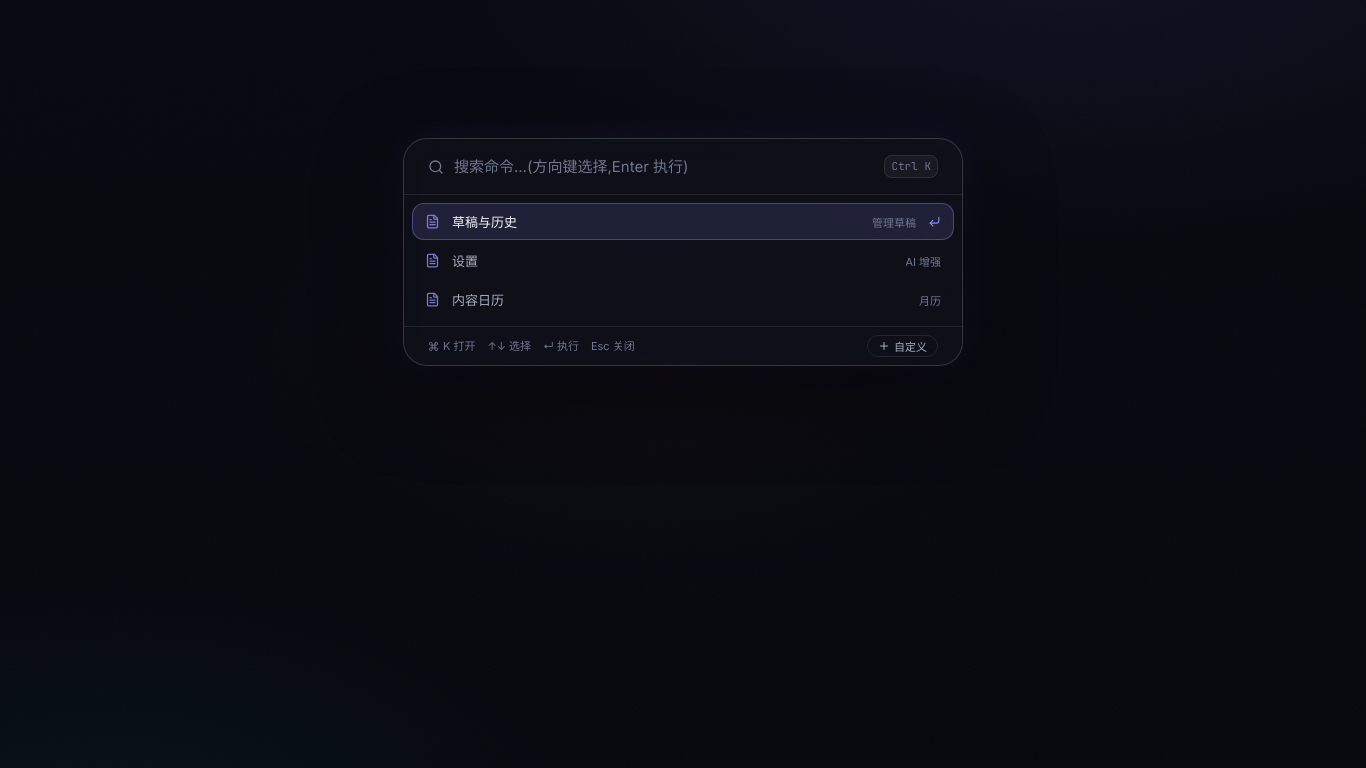
Test: CommandPalette · CMD-02 › 新增自定义命令表单保存
Click the button with aria-label "新增自定义命令" at [902, 346], box x1=867 y1=335 x2=938 y2=357
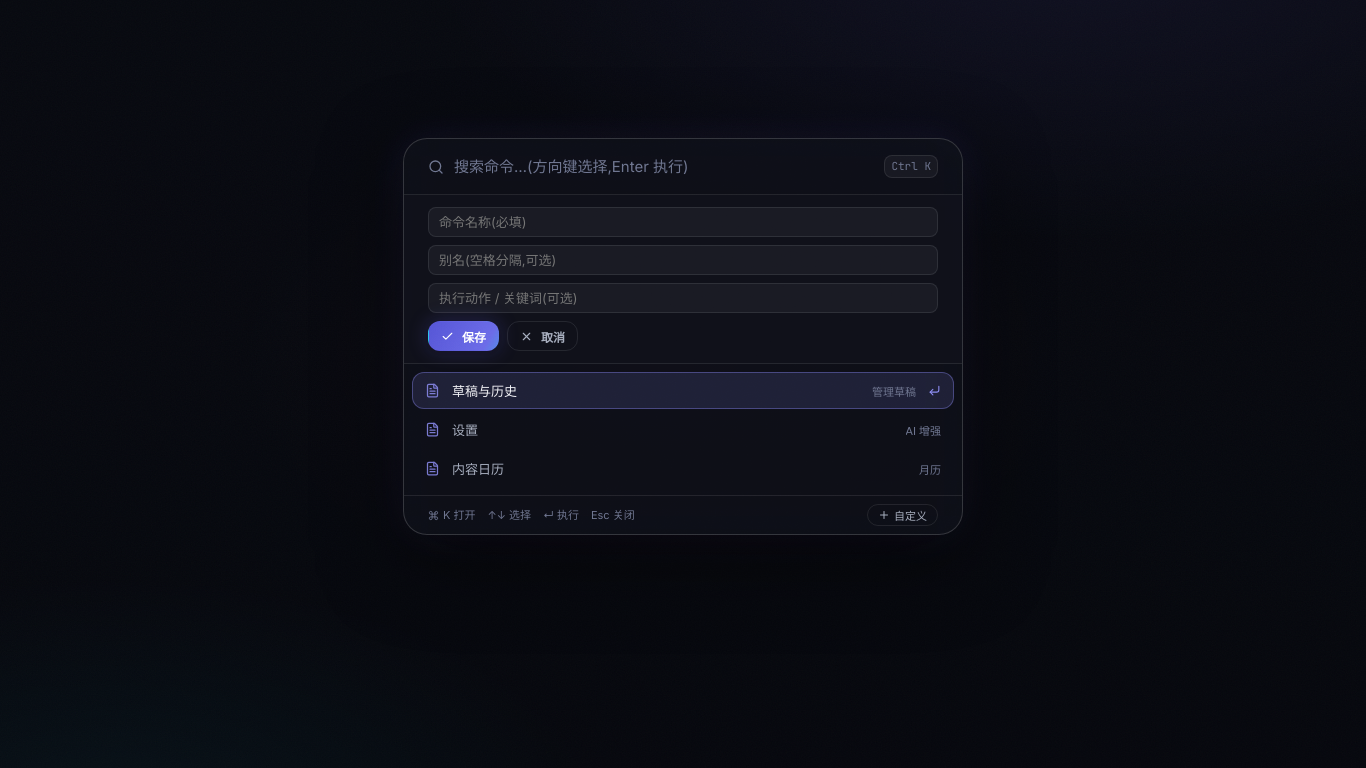
Type "我的命令" into the field labelled "命令名称" at [683, 222], box x1=428 y1=207 x2=938 y2=237
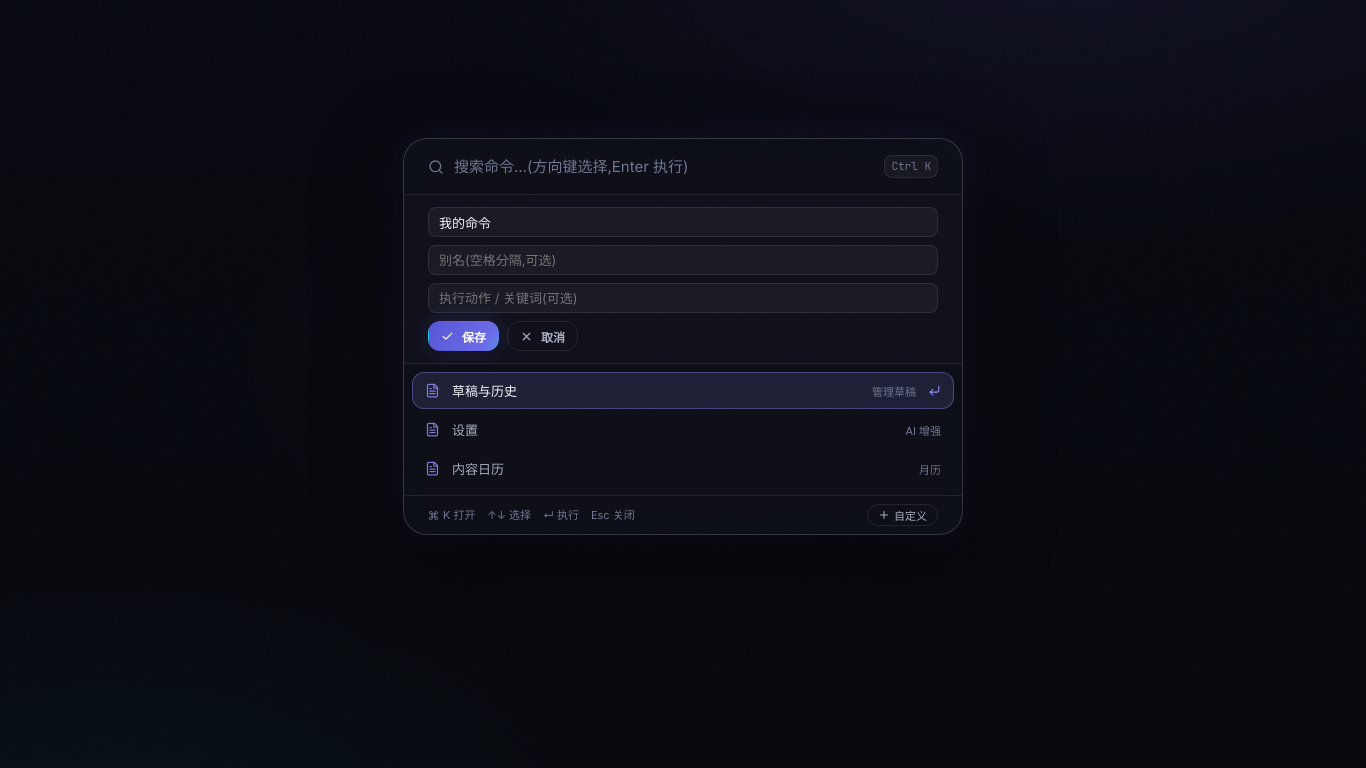
Type "mycmd 我的" into the field named "命令别名" at [683, 260], box x1=428 y1=245 x2=938 y2=275
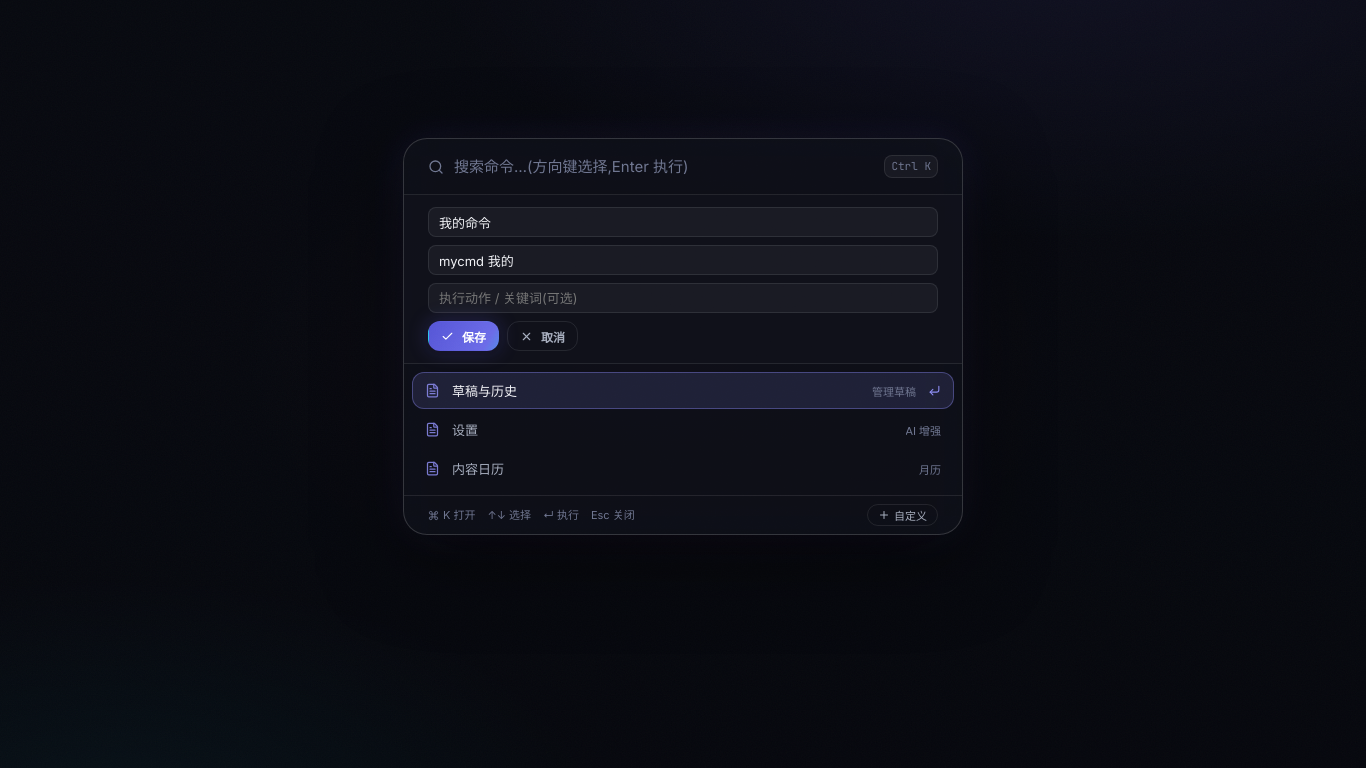
Click the button "保存" at [464, 336], box x1=428 y1=321 x2=499 y2=351
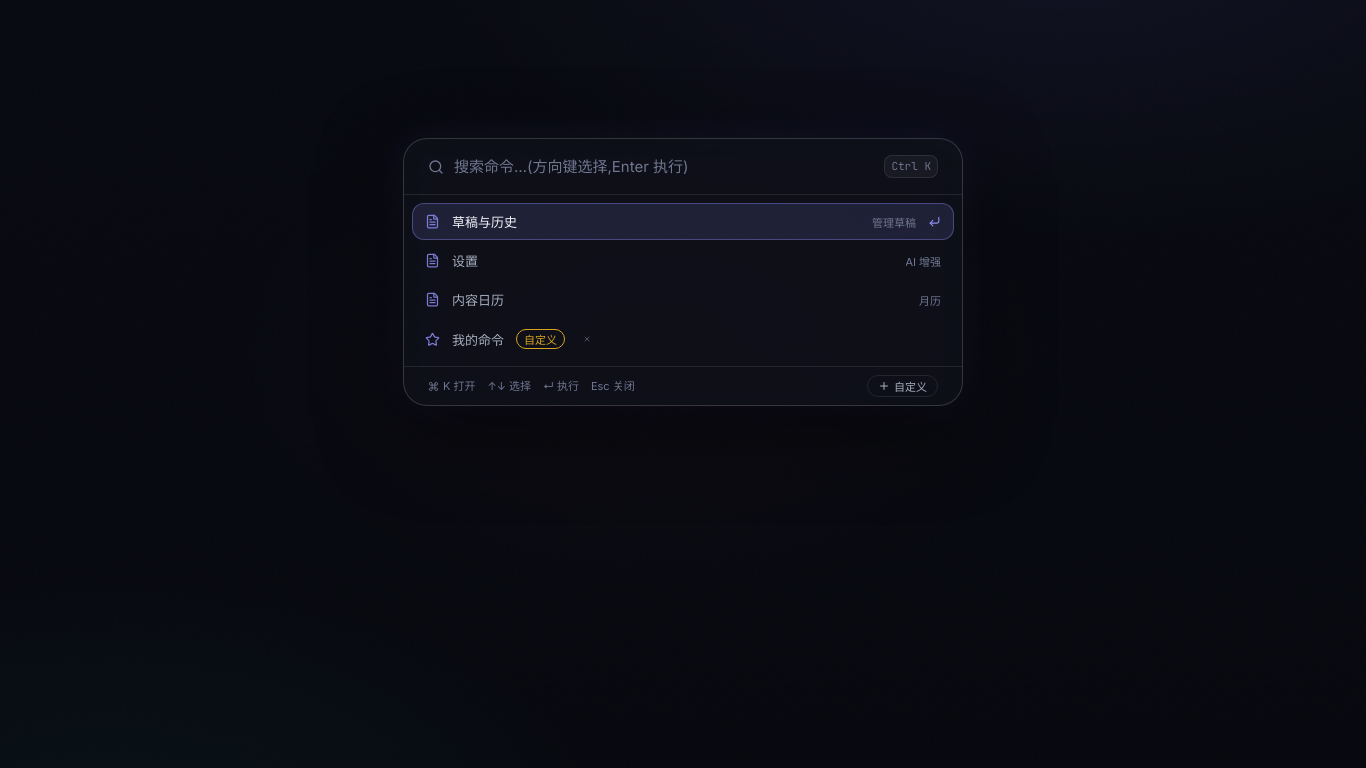
Check: the text "我的命令" is shown, box x1=452 y1=330 x2=504 y2=349
